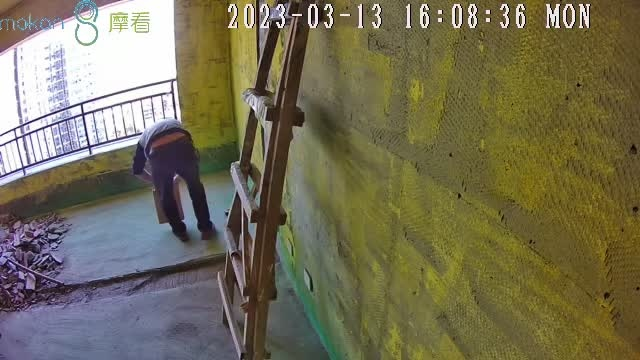people: (133, 119, 216, 240)
window: (1, 1, 177, 177)
